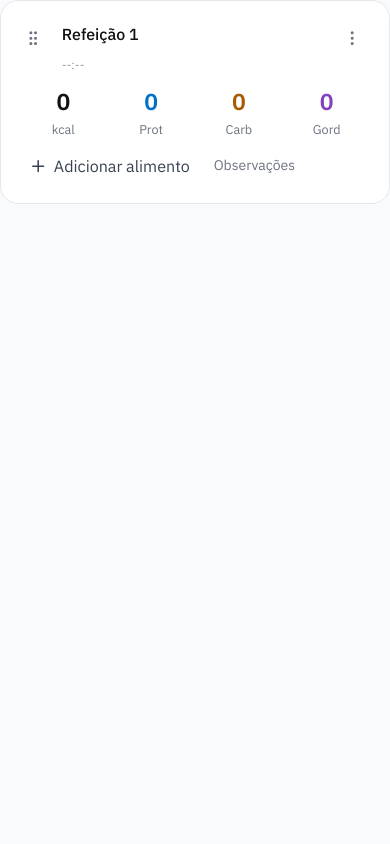
Scenario: the actions menu (⋮) › desabilita mover para cima na primeira posição, e para baixo na última
Click the button named "Mais ações para Refeição 1".
click(352, 38)  # box left=334, top=19, right=371, bottom=56
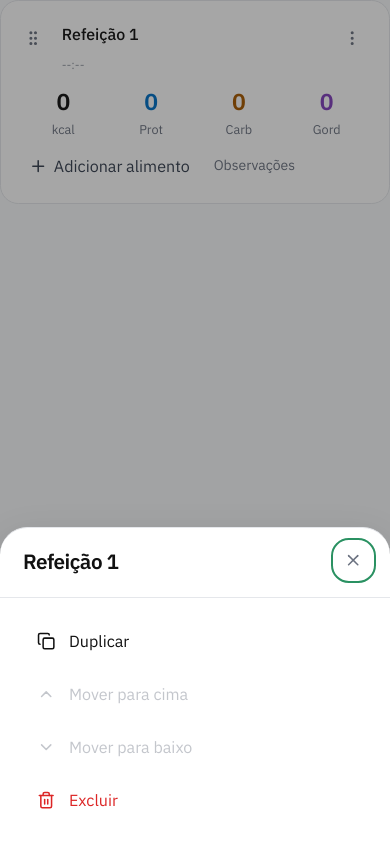
Now the button "Mover para cima" is disabled, box left=23, top=669, right=367, bottom=720
Now the button "Mover para baixo" is disabled, box left=23, top=722, right=367, bottom=773
